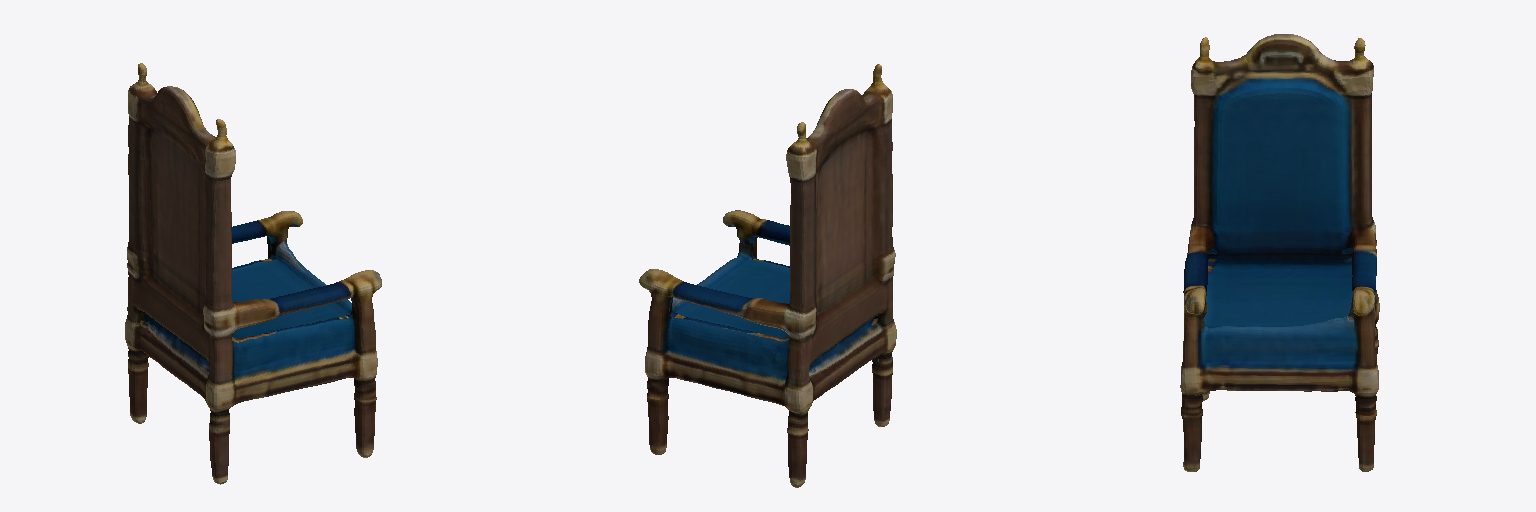
3 views of the same model, side by side, from view 1: azimuth 30°, elevation 25°; view 2: azimuth 150°, elevation 25°; view 3: azimuth 270°, elevation 25° (orthographic).
Parts seen in each view (by area): view 1: b16b648f3e01_Light_oak_wooden_ch:Mesh; view 2: b16b648f3e01_Light_oak_wooden_ch:Mesh; view 3: b16b648f3e01_Light_oak_wooden_ch:Mesh.
Part boxes in pixels (left/top/right/bottom): b16b648f3e01_Light_oak_wooden_ch:Mesh: left=125, top=63, right=381, bottom=484; b16b648f3e01_Light_oak_wooden_ch:Mesh: left=639, top=64, right=896, bottom=487; b16b648f3e01_Light_oak_wooden_ch:Mesh: left=1180, top=34, right=1379, bottom=471.
Size of the model in its own units: 0.4909 by 0.9992 by 0.4908.
Materials: 1 (1 with a texture image).